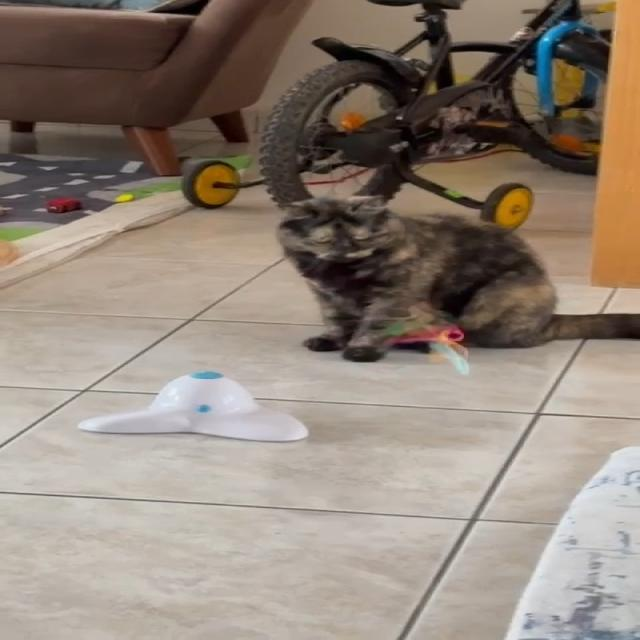authorized: (274, 193, 638, 363)
